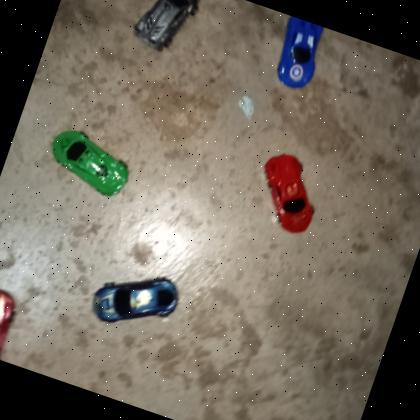Car: (83, 255, 186, 344), (245, 146, 332, 240), (39, 122, 140, 202), (126, 0, 206, 58)
